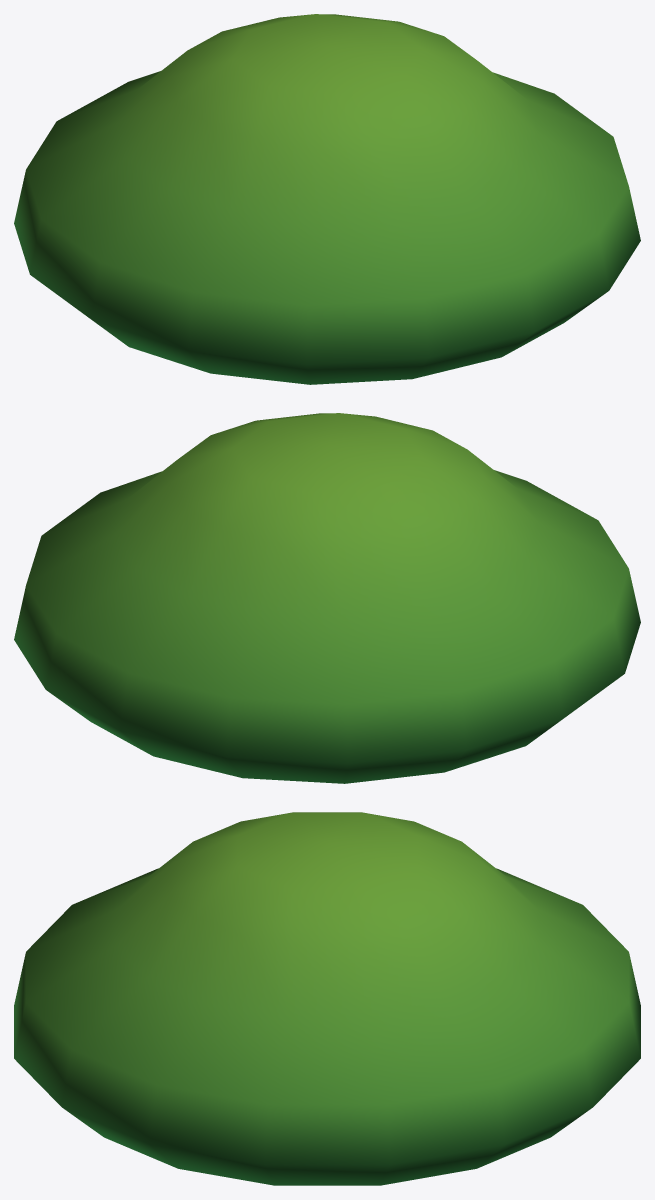
File: Bush_3_A.glb
The picture shows the model from 3 angles, top to bottom: view 1: azimuth 30°, elevation 25°; view 2: azimuth 150°, elevation 25°; view 3: azimuth 270°, elevation 25°; orthographic projection.
Bounding box in the file's own units: 1.03 × 0.4853 × 1.03.
